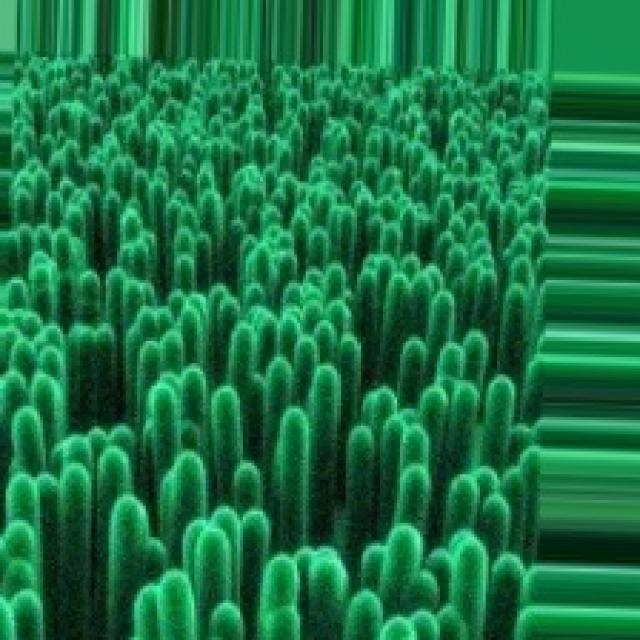Rod_bacteria: (0, 48, 554, 637)
